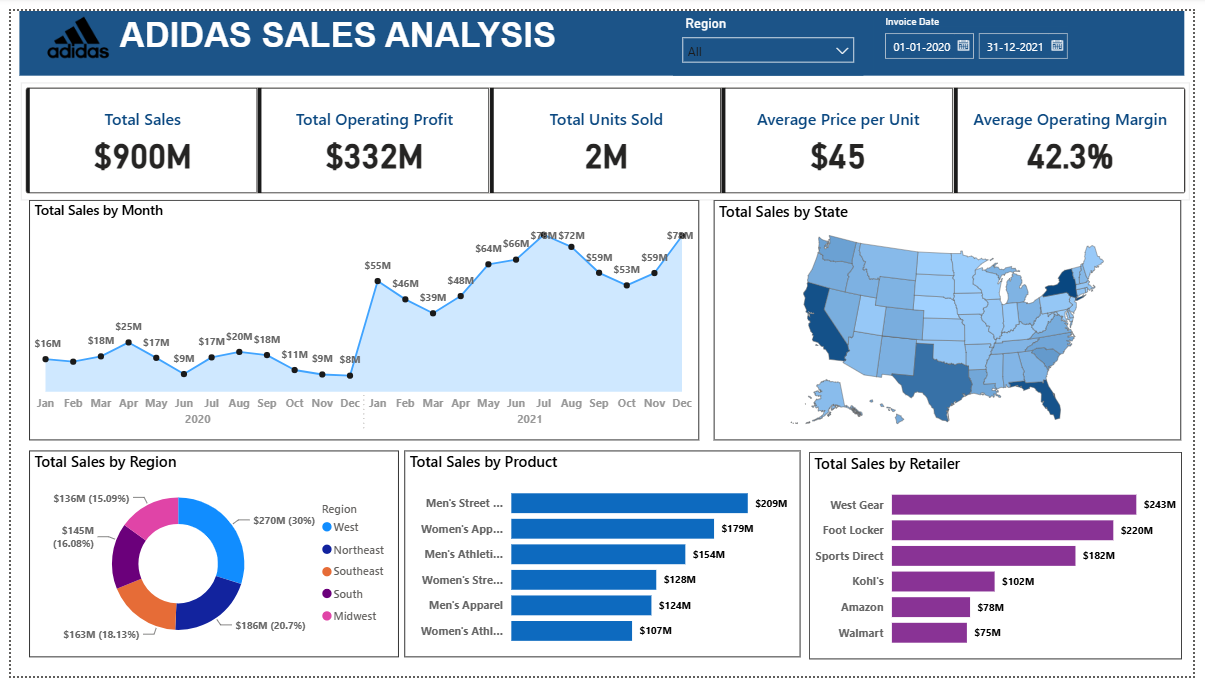

What the dashboard file says about the page in this screenshot:
{"tool":"powerbi","page":{"name":"Page 1","canvas":[1280,720],"ordinal":0},"visuals":[{"type":"cardVisual","title":"Sum of total sa","fields":{"Data":["Sum(Table 1 (Data Sales Adidas).Total Sales)","Sum(Table 1 (Data Sales Adidas).Operating Profit)","Sum(Table 1 (Data Sales Adidas).Units Sold)","Avg(Table 1 (Data Sales Adidas).Price per Unit)","Avg(Table 1 (Data Sales Adidas).Operating Margin)"]},"box":[19.8,77.9,1255.8,125.6],"z":0},{"type":"areaChart","fields":{"Category":["Table 1 (Data Sales Adidas).Invoice Date.Variation.Date Hierarchy.Month"],"Y":["Sum(Table 1 (Data Sales Adidas).Total Sales)"]},"box":[19.8,203.5,724.4,260.5],"z":1000},{"type":"shapeMap","title":"Total Sales by State","fields":{"Category":["Table 1 (Data Sales Adidas).State"],"Value":["Sum(Table 1 (Data Sales Adidas).Total Sales)"]},"box":[760.5,203.5,507,260.5],"z":2000},{"type":"donutChart","fields":{"Category":["Table 1 (Data Sales Adidas).Region"],"Y":["Sum(Table 1 (Data Sales Adidas).Total Sales)"]},"box":[10.5,475.6,400,224.4],"z":3000},{"type":"barChart","fields":{"Category":["Table 1 (Data Sales Adidas).Product"],"Y":["Sum(Table 1 (Data Sales Adidas).Total Sales)"]},"box":[425.6,475.6,426.7,224.4],"z":4000},{"type":"barChart","title":"   Total Sales by Retailer","fields":{"Y":["Sum(Table 1 (Data Sales Adidas).Total Sales)"],"Category":["Table 1 (Data Sales Adidas).Retailer"]},"box":[864,476.7,403.5,224.4],"z":5000},{"type":"slicer","fields":{"Values":["Table 1 (Data Sales Adidas).Region"]},"box":[519.7,204.2,299.6,64.8],"z":6000},{"type":"image","box":[33,12.2,106.4,45.2],"z":7000},{"type":"slicer","fields":{"Values":["Table 1 (Data Sales Adidas).Region"]},"box":[796.1,4.9,193.2,59.9],"z":8000},{"type":"slicer","fields":{"Values":["Table 1 (Data Sales Adidas).Invoice Date"]},"box":[1000.3,4.9,256.8,59.9],"z":9000},{"type":"textbox","box":[9.8,0,1260.7,69.7],"z":10000},{"type":"image","box":[33,4.9,106.4,52.6],"z":10001},{"type":"slicer","fields":{"Values":["Table 1 (Data Sales Adidas).Region"]},"box":[716.6,0,205.4,69.7],"z":10002},{"type":"slicer","fields":{"Values":["Table 1 (Data Sales Adidas).Invoice Date"]},"box":[933,0,223.8,64.8],"z":10003}]}

Visuals, with their boxes in screenshot pixels (x1, y1, x2, y2), scaled from the page's 1280x720 canvas onto the 1205x687 screenshot:
"Sum of total sa" cardVisual: 19, 74, 1201, 194
areaChart - Table 1 (Data Sales Adidas).Invoice Date.Variation.Date Hierarchy.Month x Sum(Table 1 (Data Sales Adidas).Total Sales): 19, 194, 701, 443
"Total Sales by State" shapeMap: 716, 194, 1193, 443
donutChart - Table 1 (Data Sales Adidas).Region x Sum(Table 1 (Data Sales Adidas).Total Sales): 10, 454, 386, 668
barChart - Table 1 (Data Sales Adidas).Product x Sum(Table 1 (Data Sales Adidas).Total Sales): 401, 454, 802, 668
"   Total Sales by Retailer" barChart: 813, 455, 1193, 669
slicer - Table 1 (Data Sales Adidas).Region: 489, 195, 771, 257
image: 31, 12, 131, 55
slicer - Table 1 (Data Sales Adidas).Region: 749, 5, 931, 62
slicer - Table 1 (Data Sales Adidas).Invoice Date: 942, 5, 1183, 62
textbox: 9, 0, 1196, 67
image: 31, 5, 131, 55
slicer - Table 1 (Data Sales Adidas).Region: 675, 0, 868, 67
slicer - Table 1 (Data Sales Adidas).Invoice Date: 878, 0, 1089, 62
